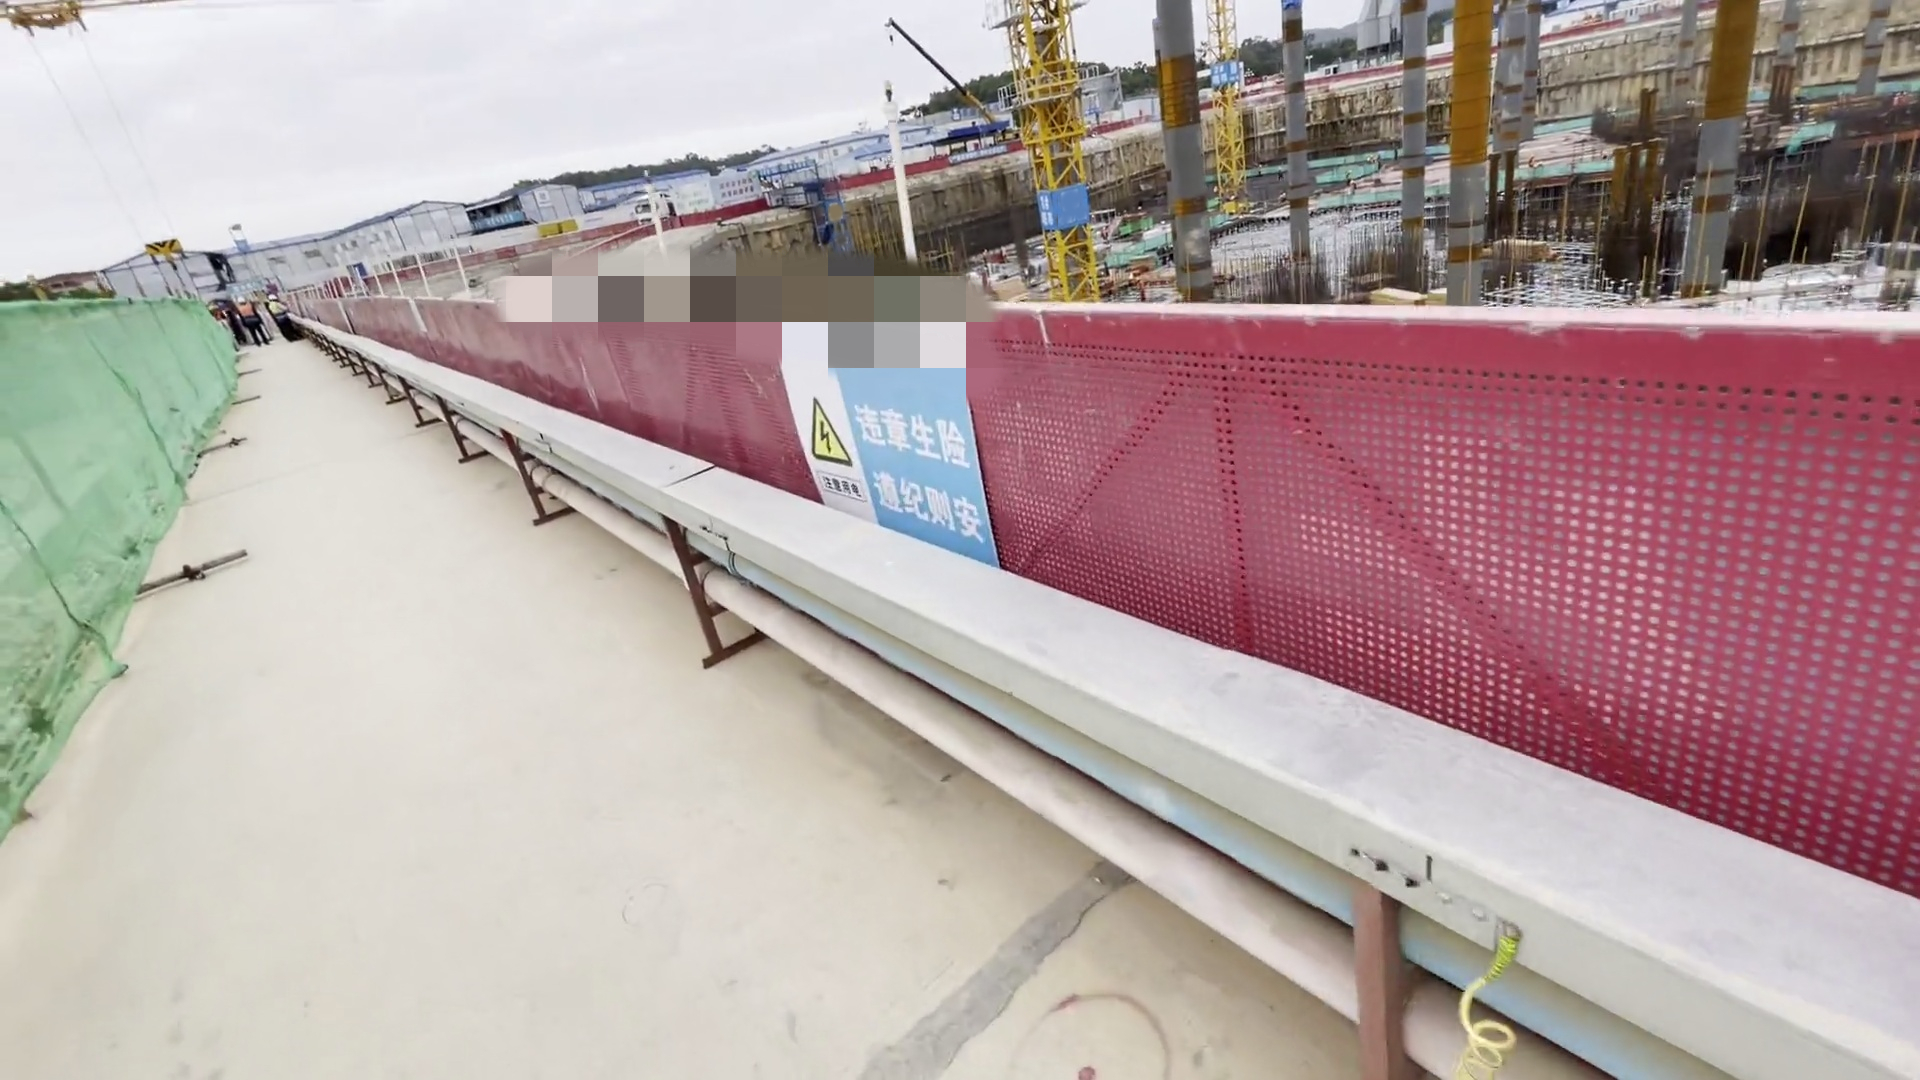fence: (238, 230, 1863, 868)
hook: (137, 230, 217, 294)
person: (259, 286, 307, 351), (225, 289, 270, 357)
slogan: (800, 363, 988, 539)
